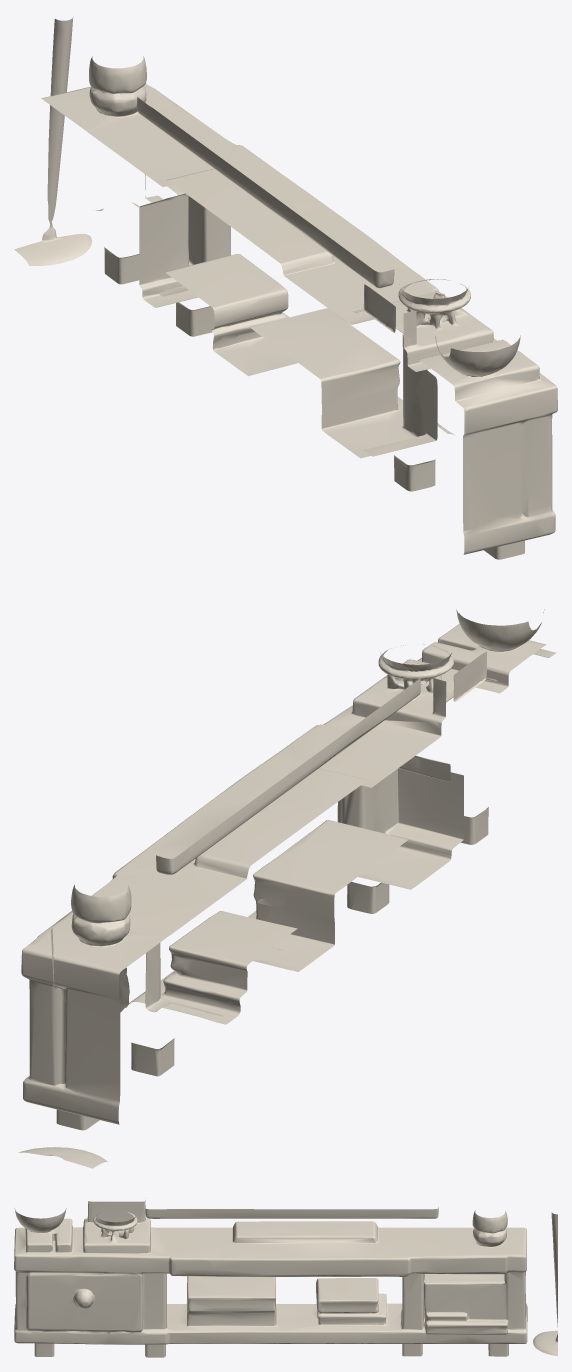
Rendered from living_console.glb.
3 renders of one model, top to bottom at view 1: azimuth 30°, elevation 25°; view 2: azimuth 150°, elevation 25°; view 3: azimuth 270°, elevation 25°, orthographic. The views are drawn at different scales.
Bounding box in the file's own units: 0.0934 × 0.179 × 0.6469.
